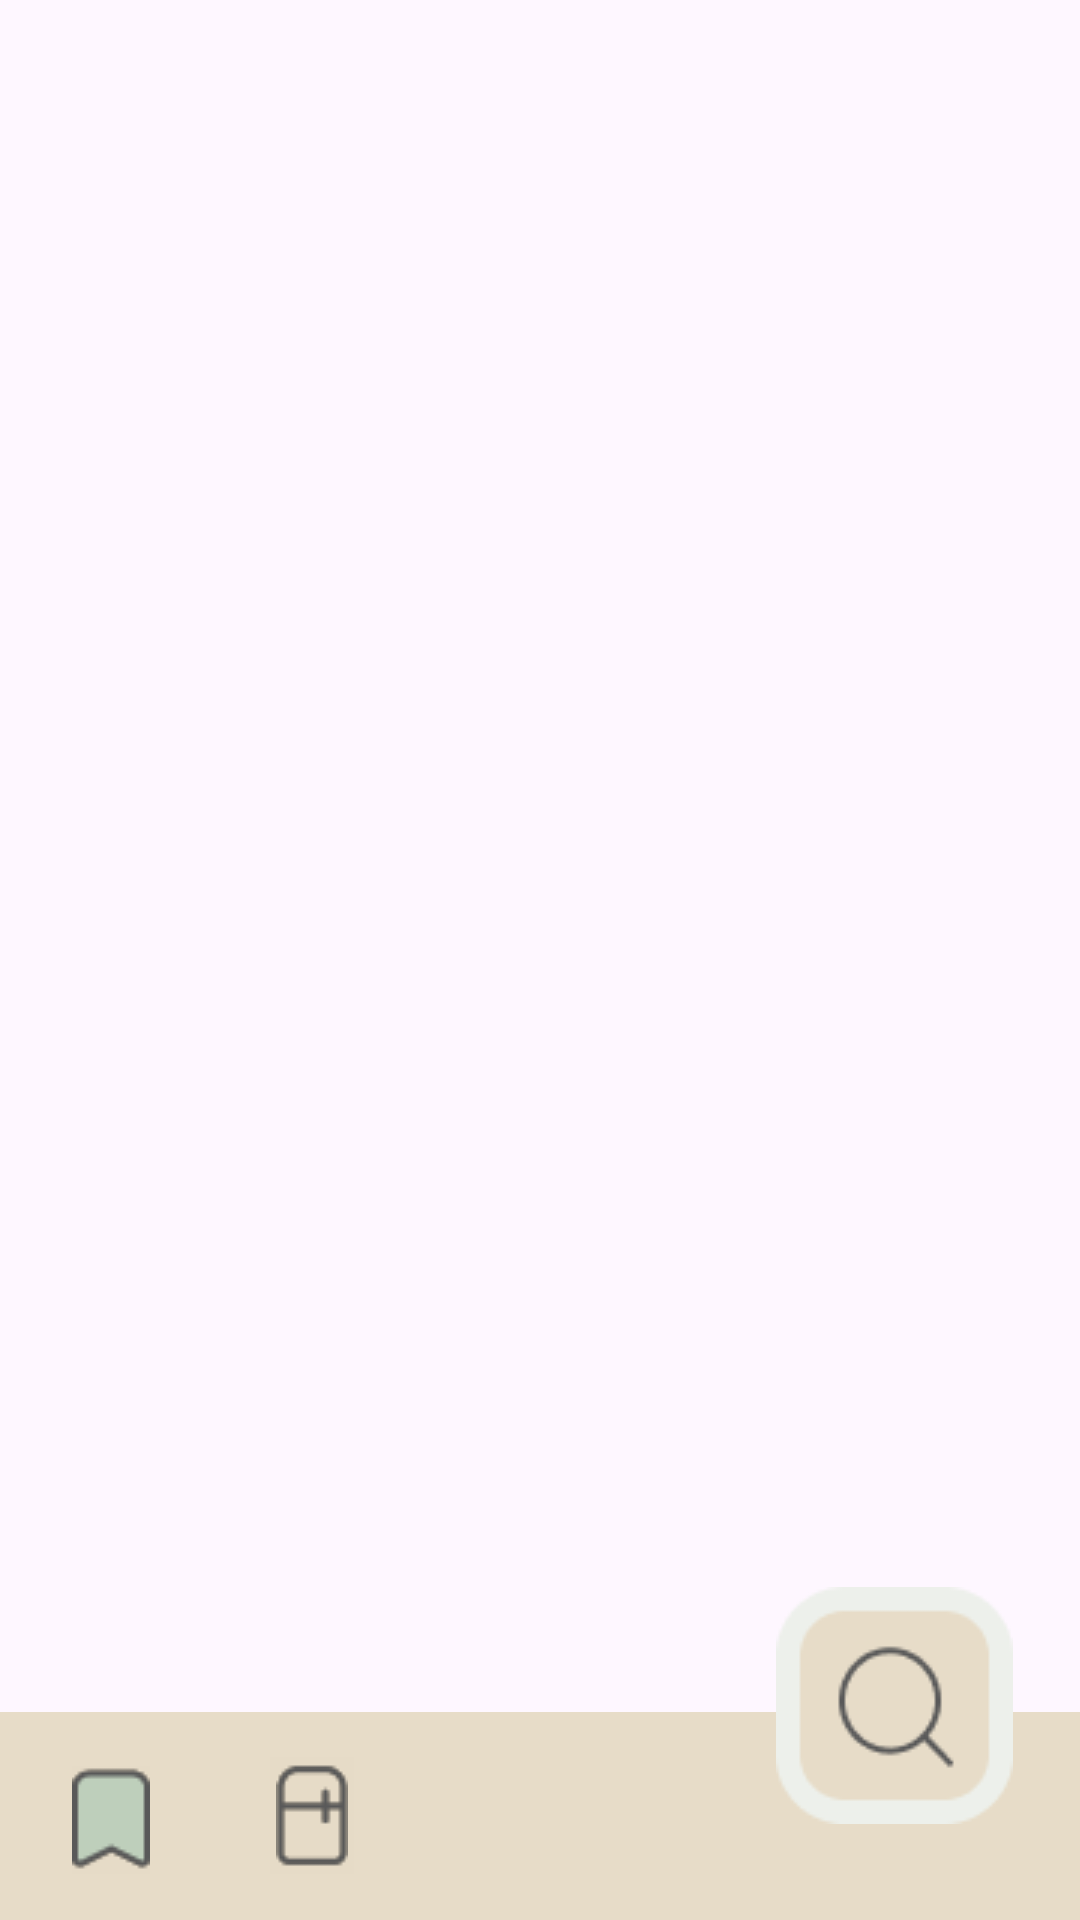

Icons on this 1080×1920 Android screen, each with the point to tap as point (x, y):
favs on: point (111, 1818)
pantry off: point (312, 1815)
search bar: point (894, 1705)
